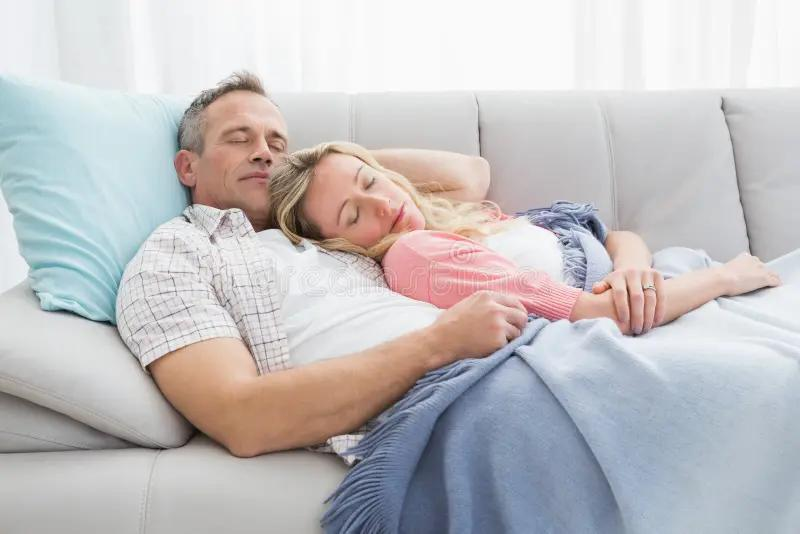blanket: (318, 198, 800, 534)
long sleeve shirt: (112, 199, 493, 466)
